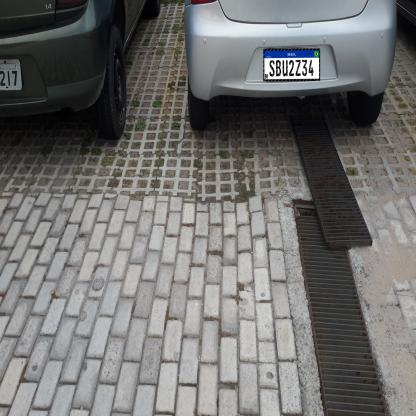PlacaM: (263, 49, 320, 81)
